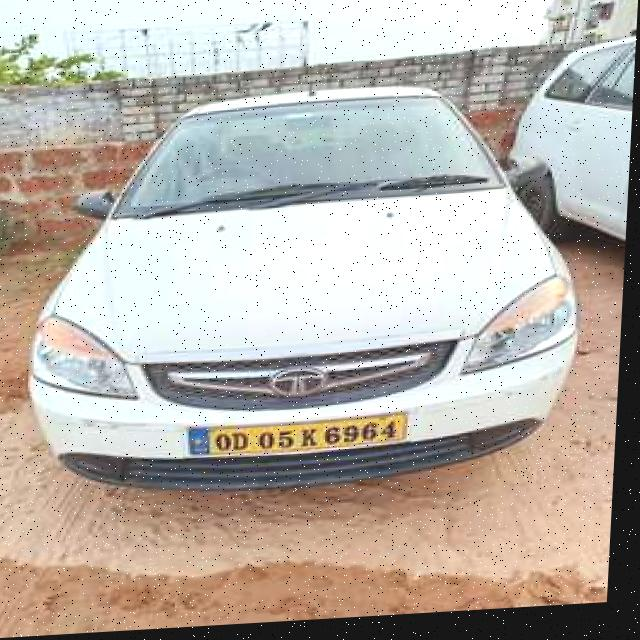plate: (191, 416, 415, 461)
